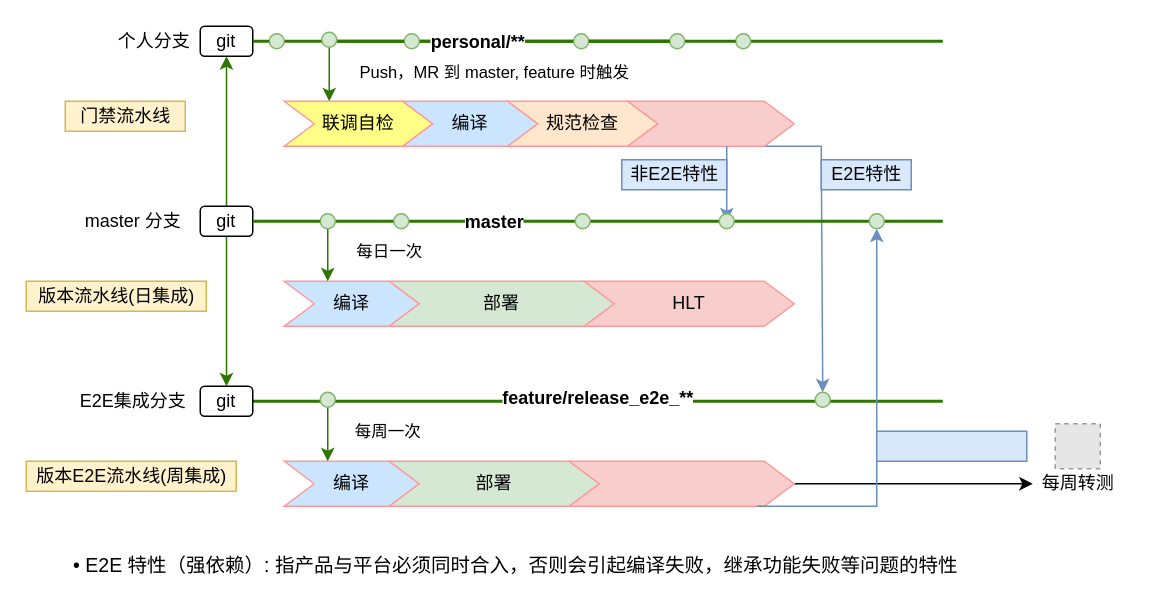
Image size: 1149x606. Some labels were removed from this diagram. Grey dashed boxes stand in for pictures. Each missing label, with the centre of its shape:
LLT: point (710, 123)
修复缺陷反合入: point (951, 445)
版本E2E门槛测试: point (681, 483)
